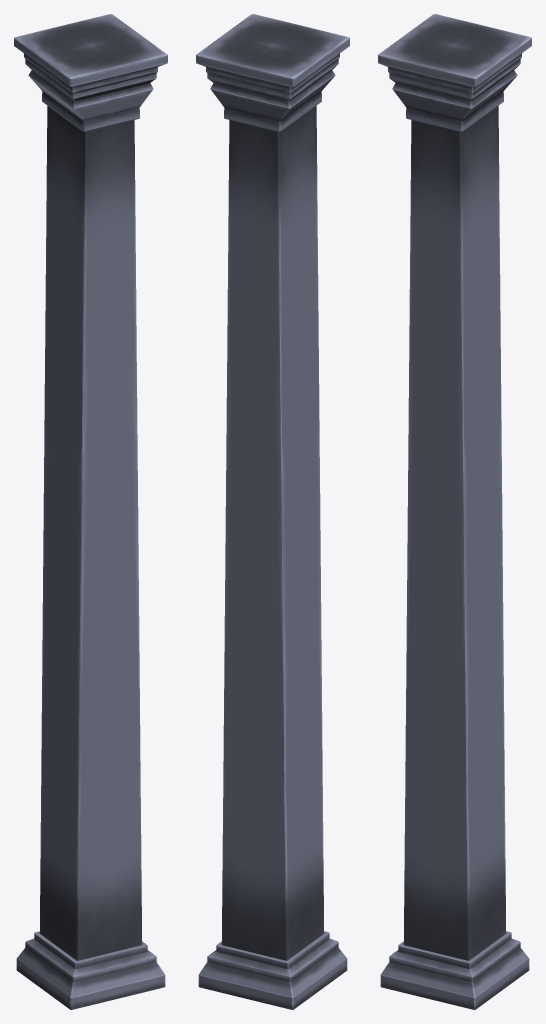
File: TallColumn.fbx
The picture shows the model from 3 angles, left to right: view 1: azimuth 30°, elevation 25°; view 2: azimuth 150°, elevation 25°; view 3: azimuth 330°, elevation 25°; orthographic projection.
Parts seen in each view (by area): view 1: Arch.009; view 2: Arch.009; view 3: Arch.009.
Boxes of the visible parts, bbox=[...] form: Arch.009: bbox=[14, 14, 167, 1009]; Arch.009: bbox=[196, 14, 349, 1009]; Arch.009: bbox=[378, 14, 531, 1009].
Bounding box in the file's own units: 220 × 1999 × 220.
